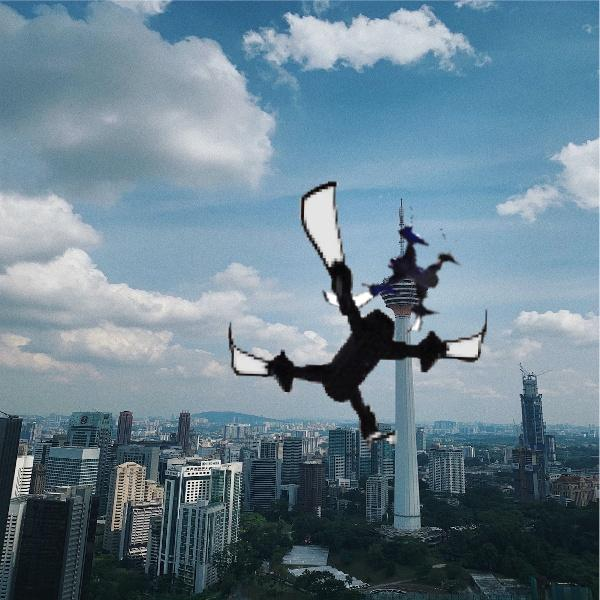drone: (213, 174, 501, 462), (325, 193, 472, 340)
